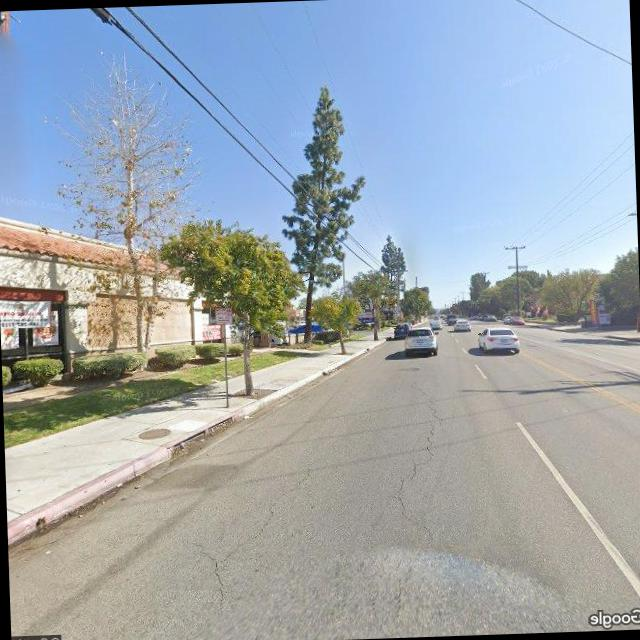pothole: (204, 449, 340, 591), (383, 385, 443, 519)
